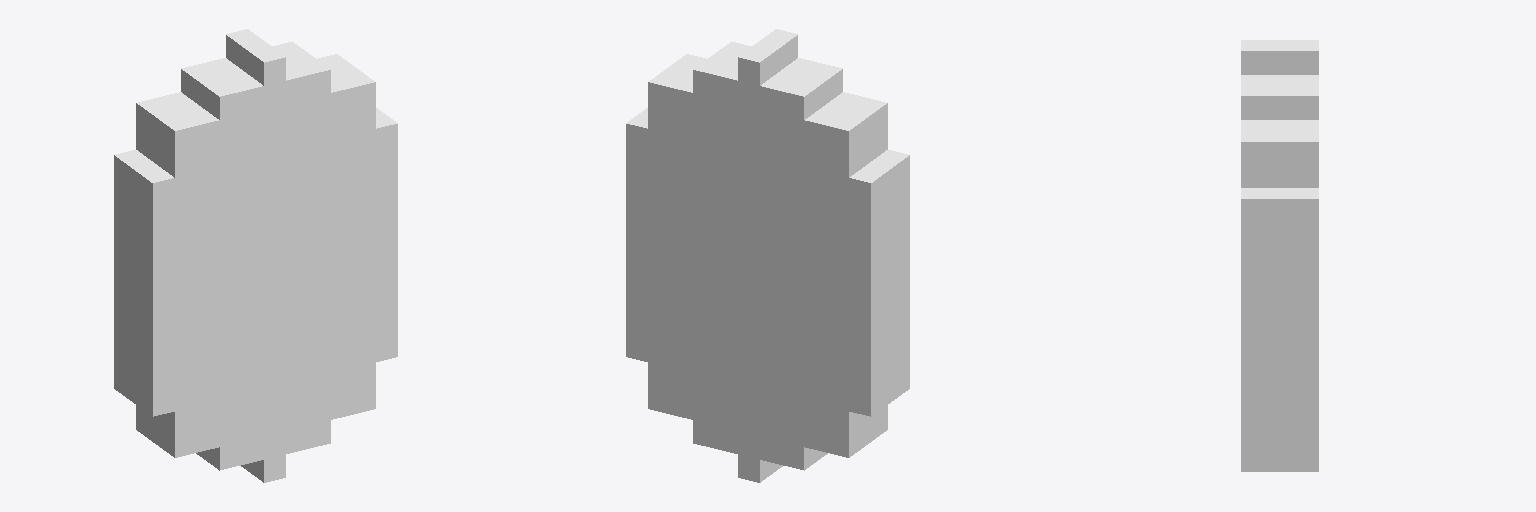
The picture shows the model from 3 angles: view 1: azimuth 30°, elevation 25°; view 2: azimuth 150°, elevation 25°; view 3: azimuth 270°, elevation 25°; orthographic projection.
Parts seen in each view (by area): view 1: ATunnelIns; view 2: ATunnelIns; view 3: ATunnelIns.
Part boxes in pixels (x1,y1,x2,y2): ATunnelIns: (114,29,397,482); ATunnelIns: (626,29,909,482); ATunnelIns: (1241,40,1318,471).
Size of the model in its own units: 11 by 18 by 3.
1 materials, 1 textured.